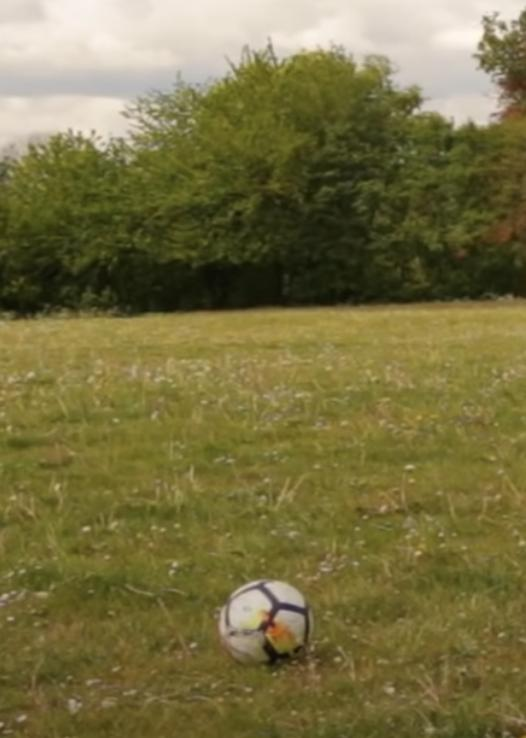ball: (221, 580, 310, 665)
